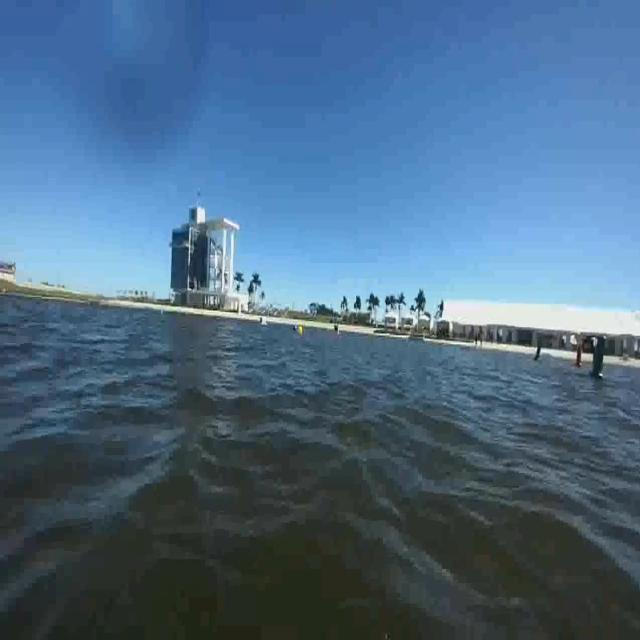green-column-buoy: (592, 331, 610, 385)
yellow-buoy: (297, 324, 303, 336)
